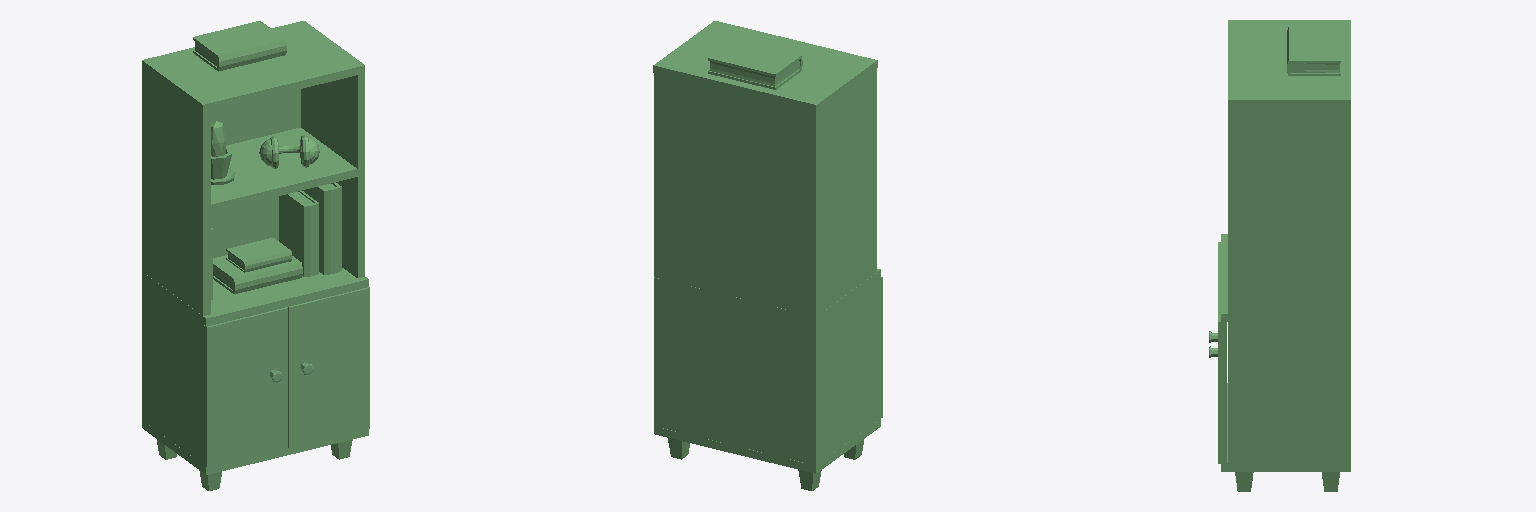
robot.urdf — dresser.urdf:
<?xml version="1.0" ?>
<robot name="dresser.urdf">
  <link concave="yes" name="baseLink">
    <inertial>
      <origin rpy="0 0 0" xyz="0.0 0.0 0.0"/>
       <mass value=".0"/>
       <inertia ixx="0" ixy="0" ixz="0" iyy="0" iyz="0" izz="0"/>
    </inertial>

    <visual>
      <origin rpy="1.57075 0 0" xyz="0 0 0"/>
      <geometry>
        <mesh filename="dresser.obj" scale="1 1 1"/>
      </geometry>
       <material name="red">
        <color rgba="0.5 0.7 0.5 1"/>
      </material>
    </visual>

    <collision concave="yes">
      <origin rpy="1.57075 0 0" xyz="0 0 0"/>
      <geometry>
	 	    <mesh filename="dresser.obj" scale="1 1 1"/>
      </geometry>
    </collision>
  </link>
</robot>

--- Facts derived from the render (not from the file) ---
3 views of the same robot in one strip: view 1: azimuth 30°, elevation 25°; view 2: azimuth 150°, elevation 25°; view 3: azimuth 270°, elevation 25° (orthographic).
Robot: dresser.urdf — 1 links, 0 joints (none); root link baseLink; default pose: all joints at 0.
Links seen in each view (by area): view 1: baseLink; view 2: baseLink; view 3: baseLink.
Link boxes in pixels (left/top/right/bottom): baseLink: left=142, top=21, right=369, bottom=490; baseLink: left=653, top=21, right=882, bottom=490; baseLink: left=1209, top=20, right=1350, bottom=491.
Size in the robot's own frame: 4.02 by 3.02 by 9.64 metres.
Meshes: 1 distinct files referenced, 1 mesh visuals loaded (1 OBJ).